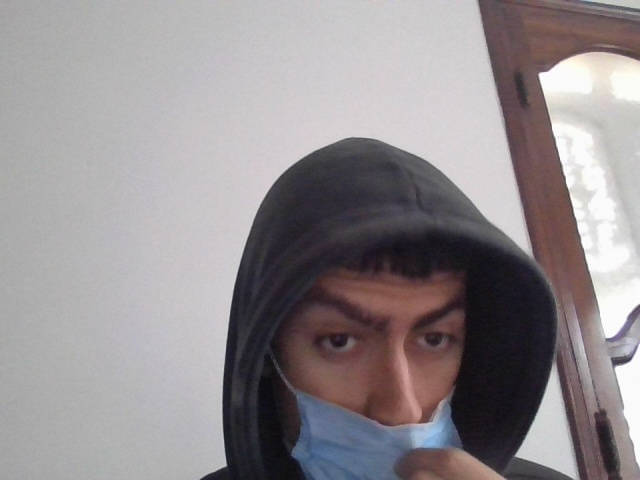mask_weared_incorrect: (254, 219, 486, 480)
